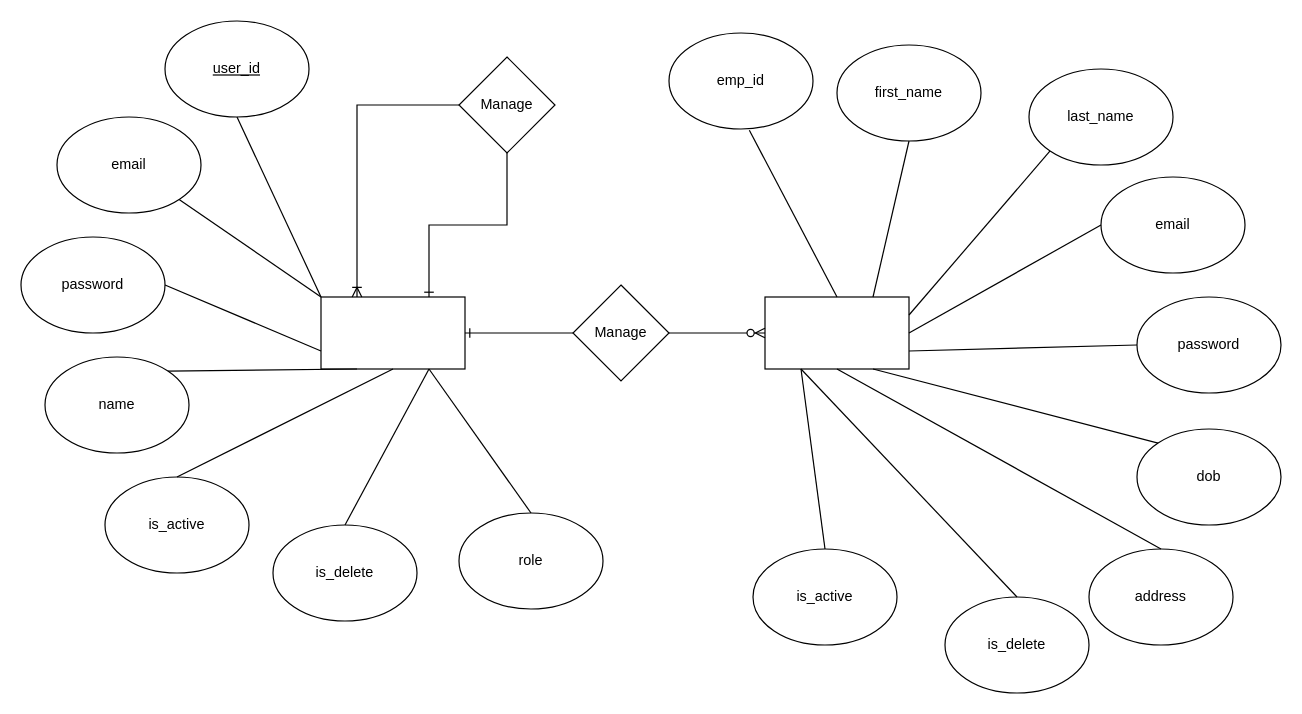
This 1302x714 diagram has some shape labels left out. The centre of each missing label's shape, as x and y in pixels:
Employee: point (836, 332)
User: point (392, 332)
